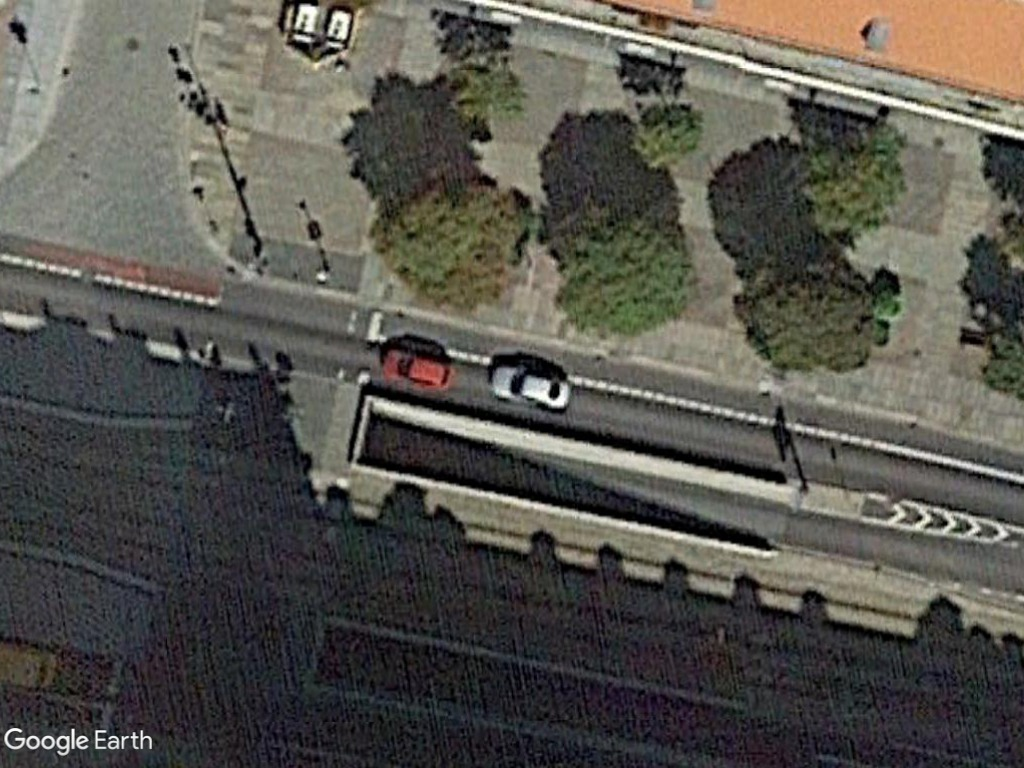car: (484, 356, 578, 415), (372, 335, 460, 397)
